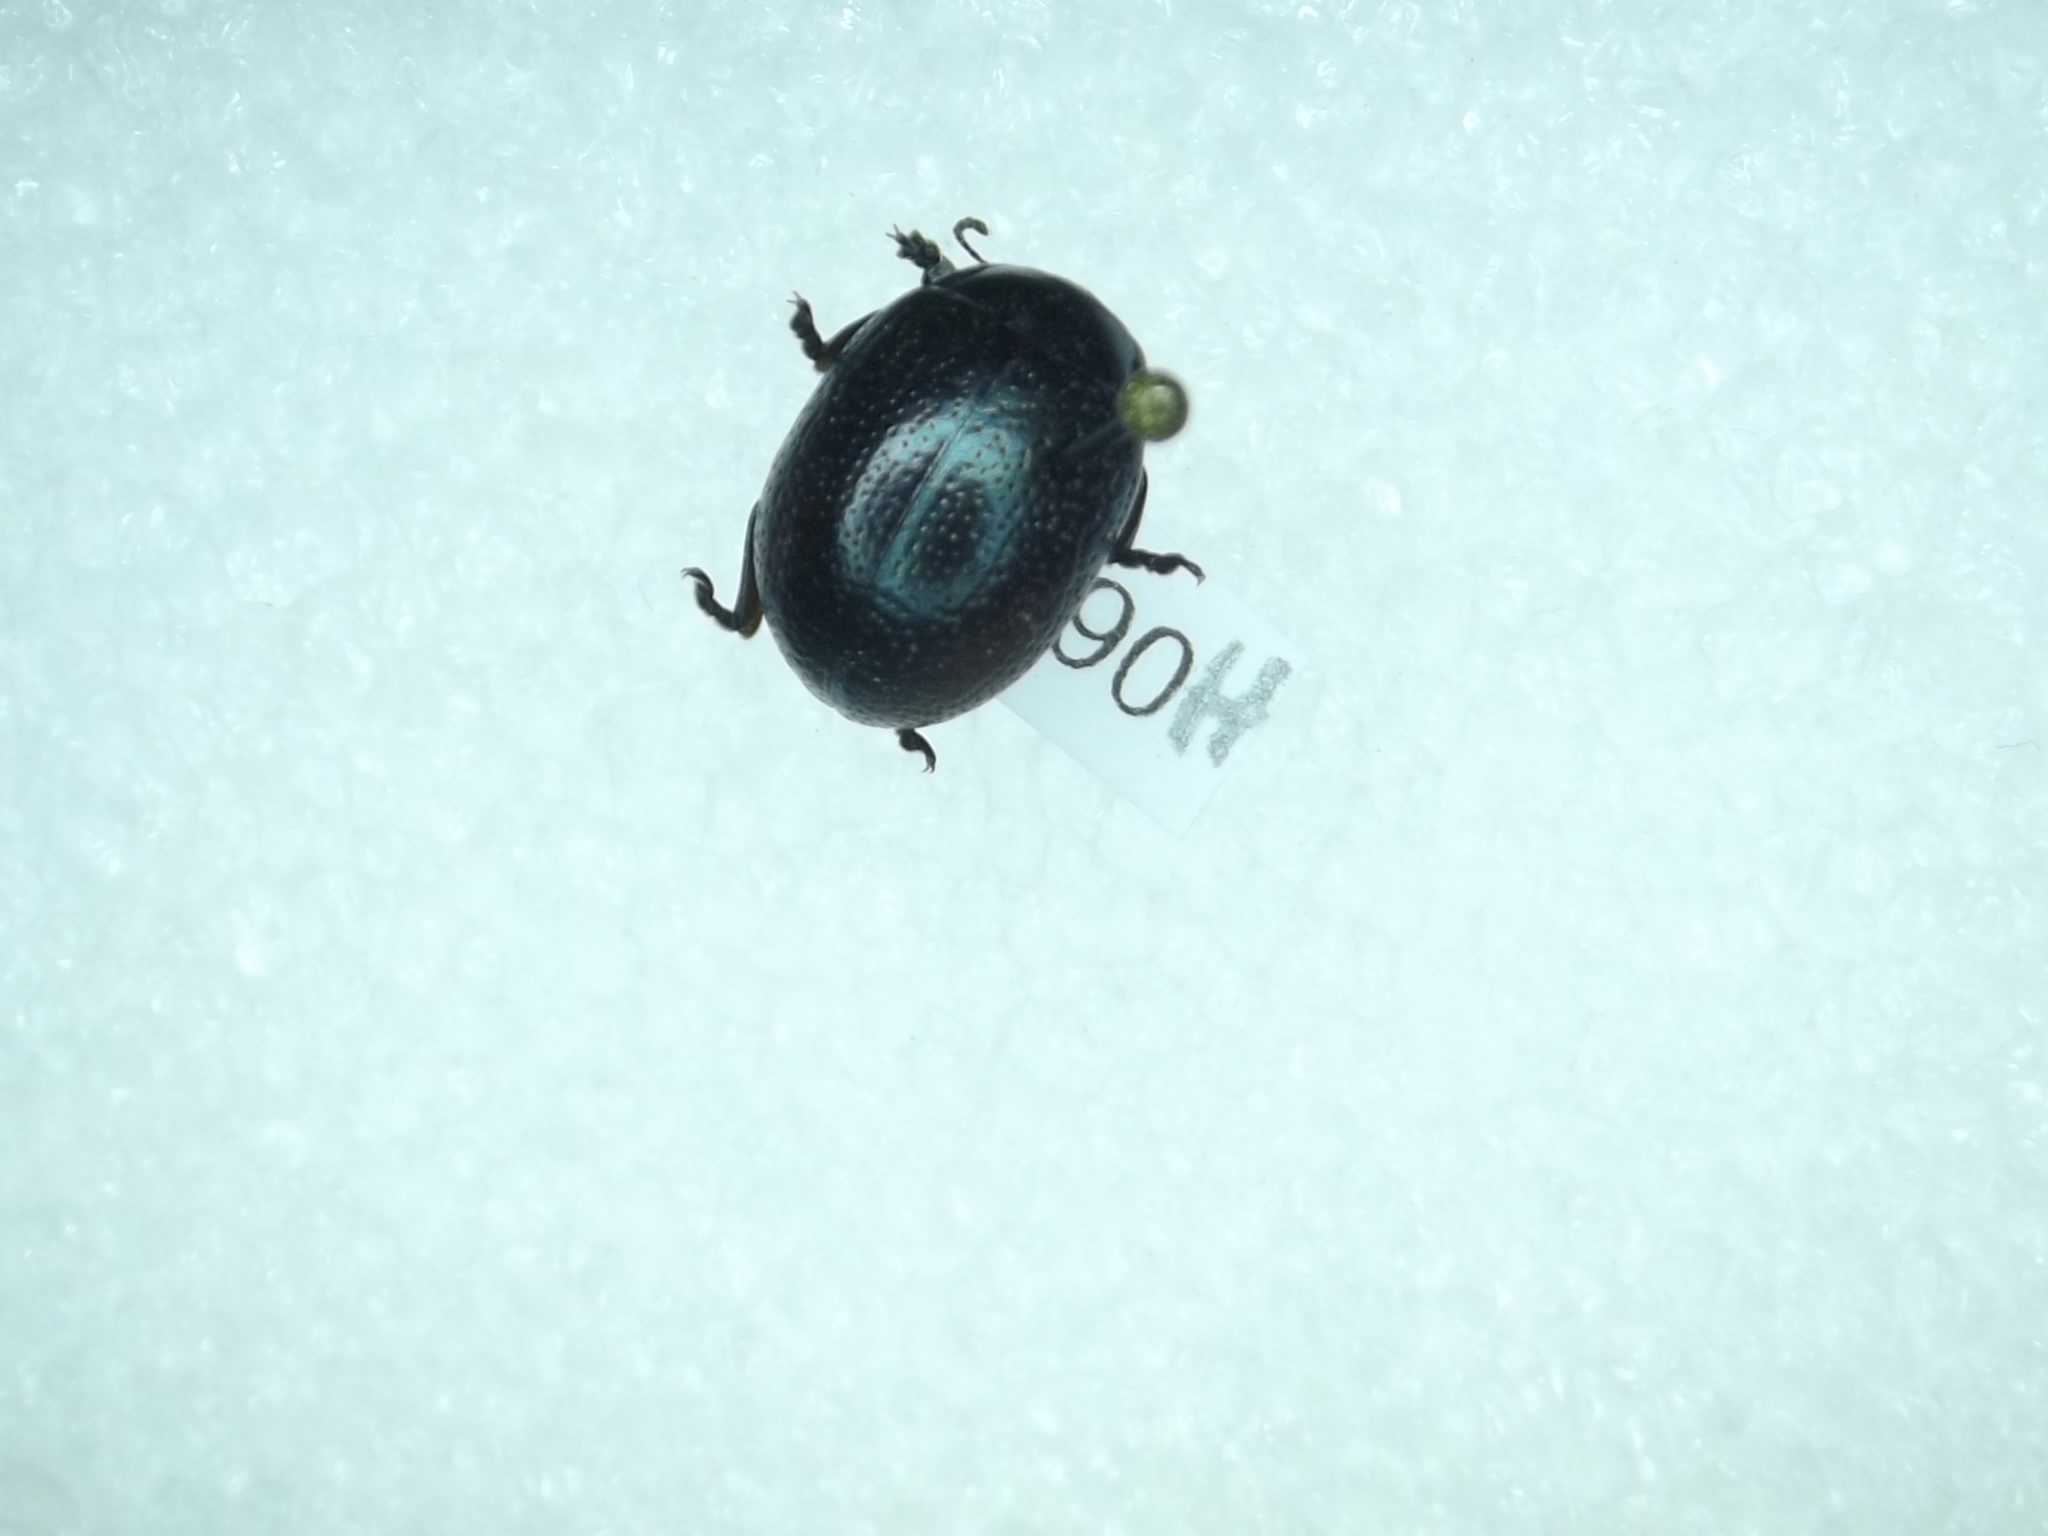Chrysolina_oricalcia: (674, 205, 1214, 786)
